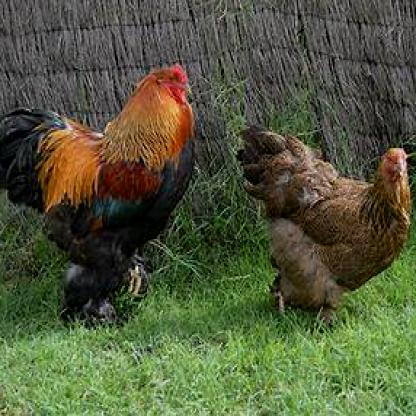chicken: (0, 60, 200, 340), (237, 128, 407, 324)
